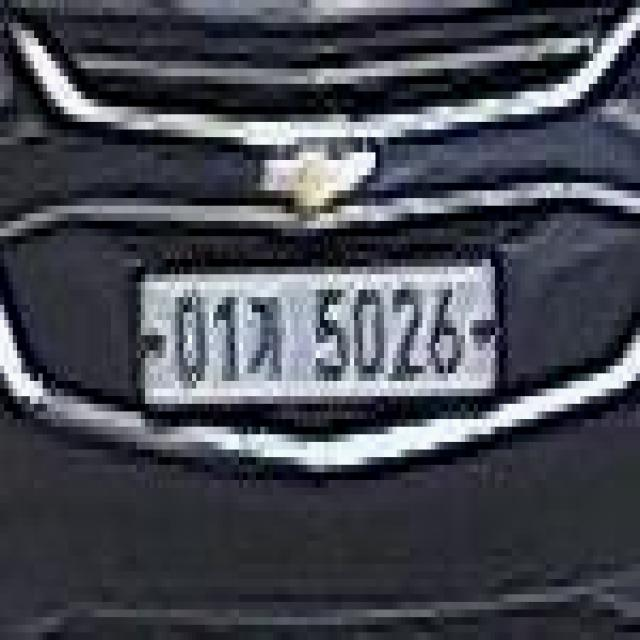illegal_plate: (131, 252, 507, 425)
